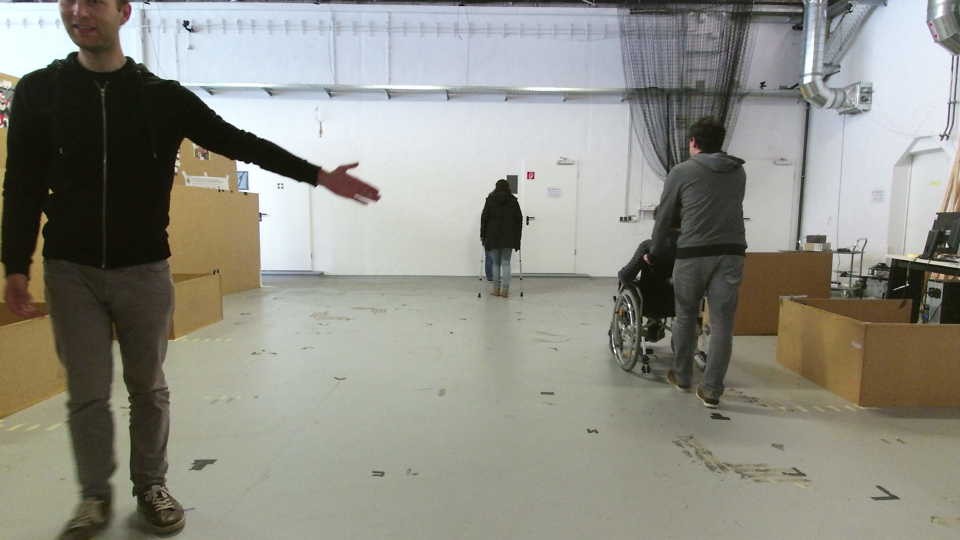crutches: (471, 175, 529, 302)
